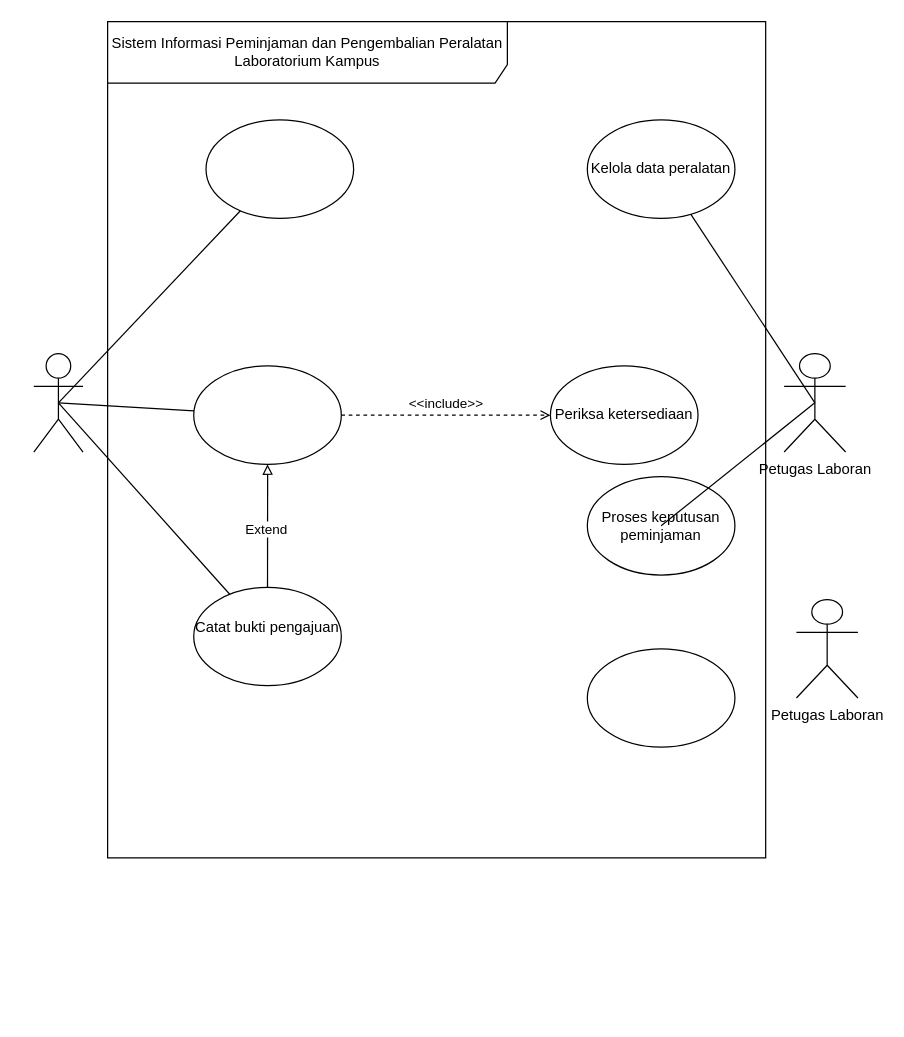
Image size: 904x1037. Some labels were removed from this diagram. Here are the shapes that lost their labels. From the top down, the centre of each, then its label:
(x=279, y=168): Lihat ketersediaan peralatan
(x=58, y=402): Mahasiswa
(x=266, y=414): Ajukan peminjaman
(x=660, y=697): Lihat laporan peminjaman
